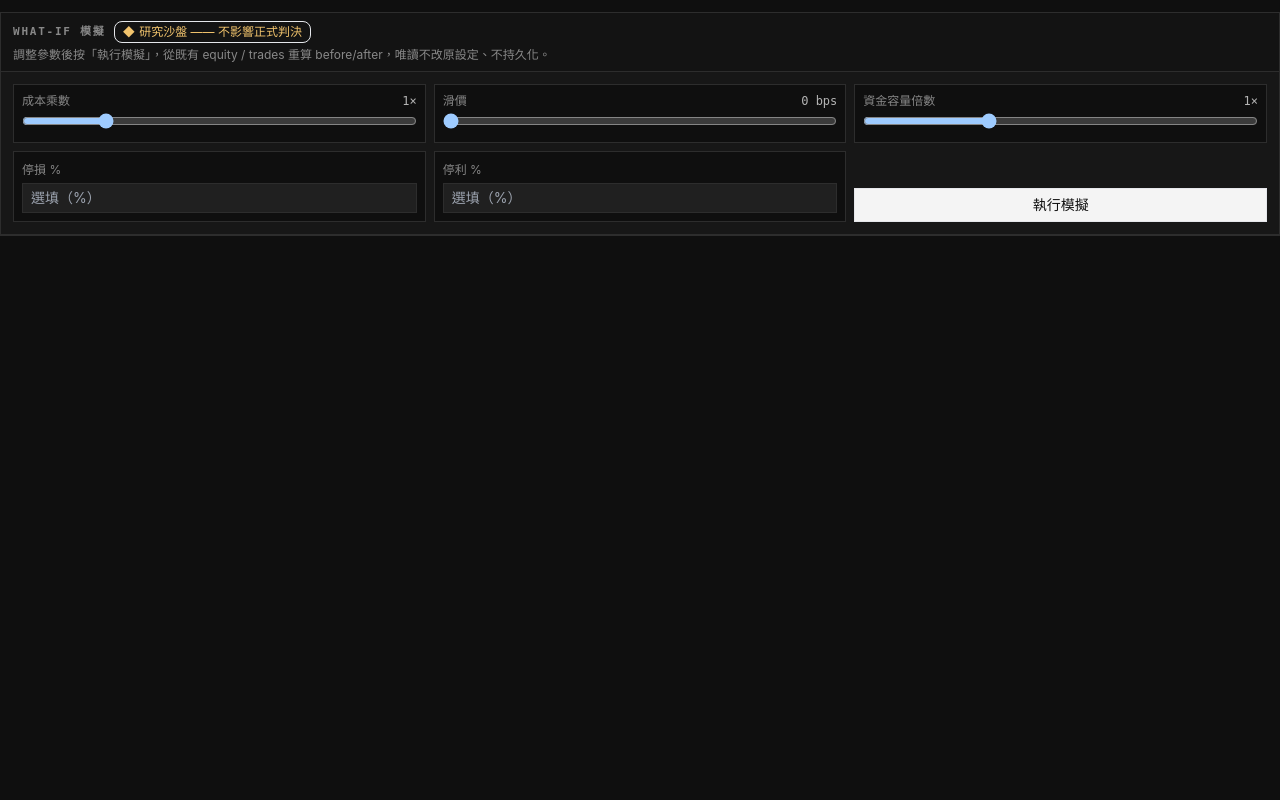
Test: SimulationPanel › honestly shows trade-space not_available for a panel strategy (no per-trade pnl)
Click the button with test id "sim-run" at (1061, 205), box [854,188,1267,222]
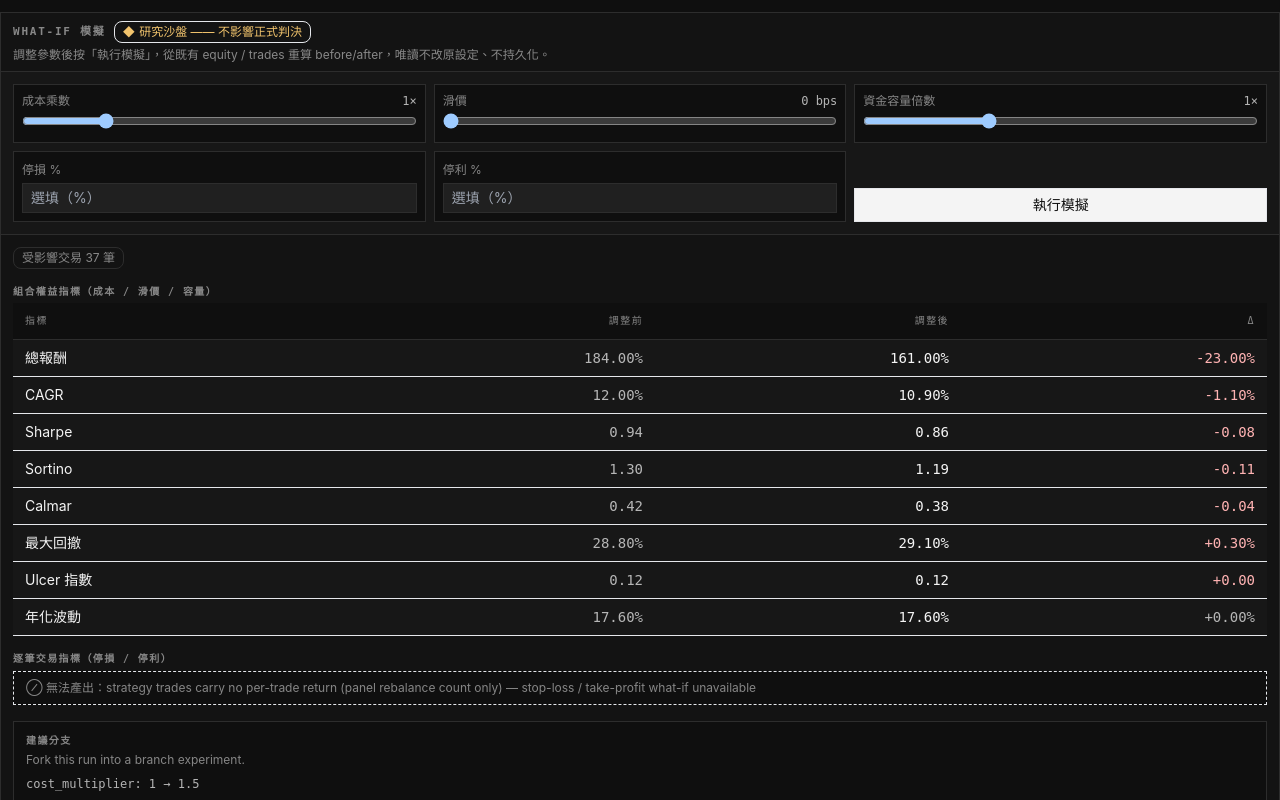
Expected: the text "no per-trade return" is shown, [106,680,756,695]
Expected: the cell with test id "sim-delta-total_return" is shown, [961,340,1267,377]
